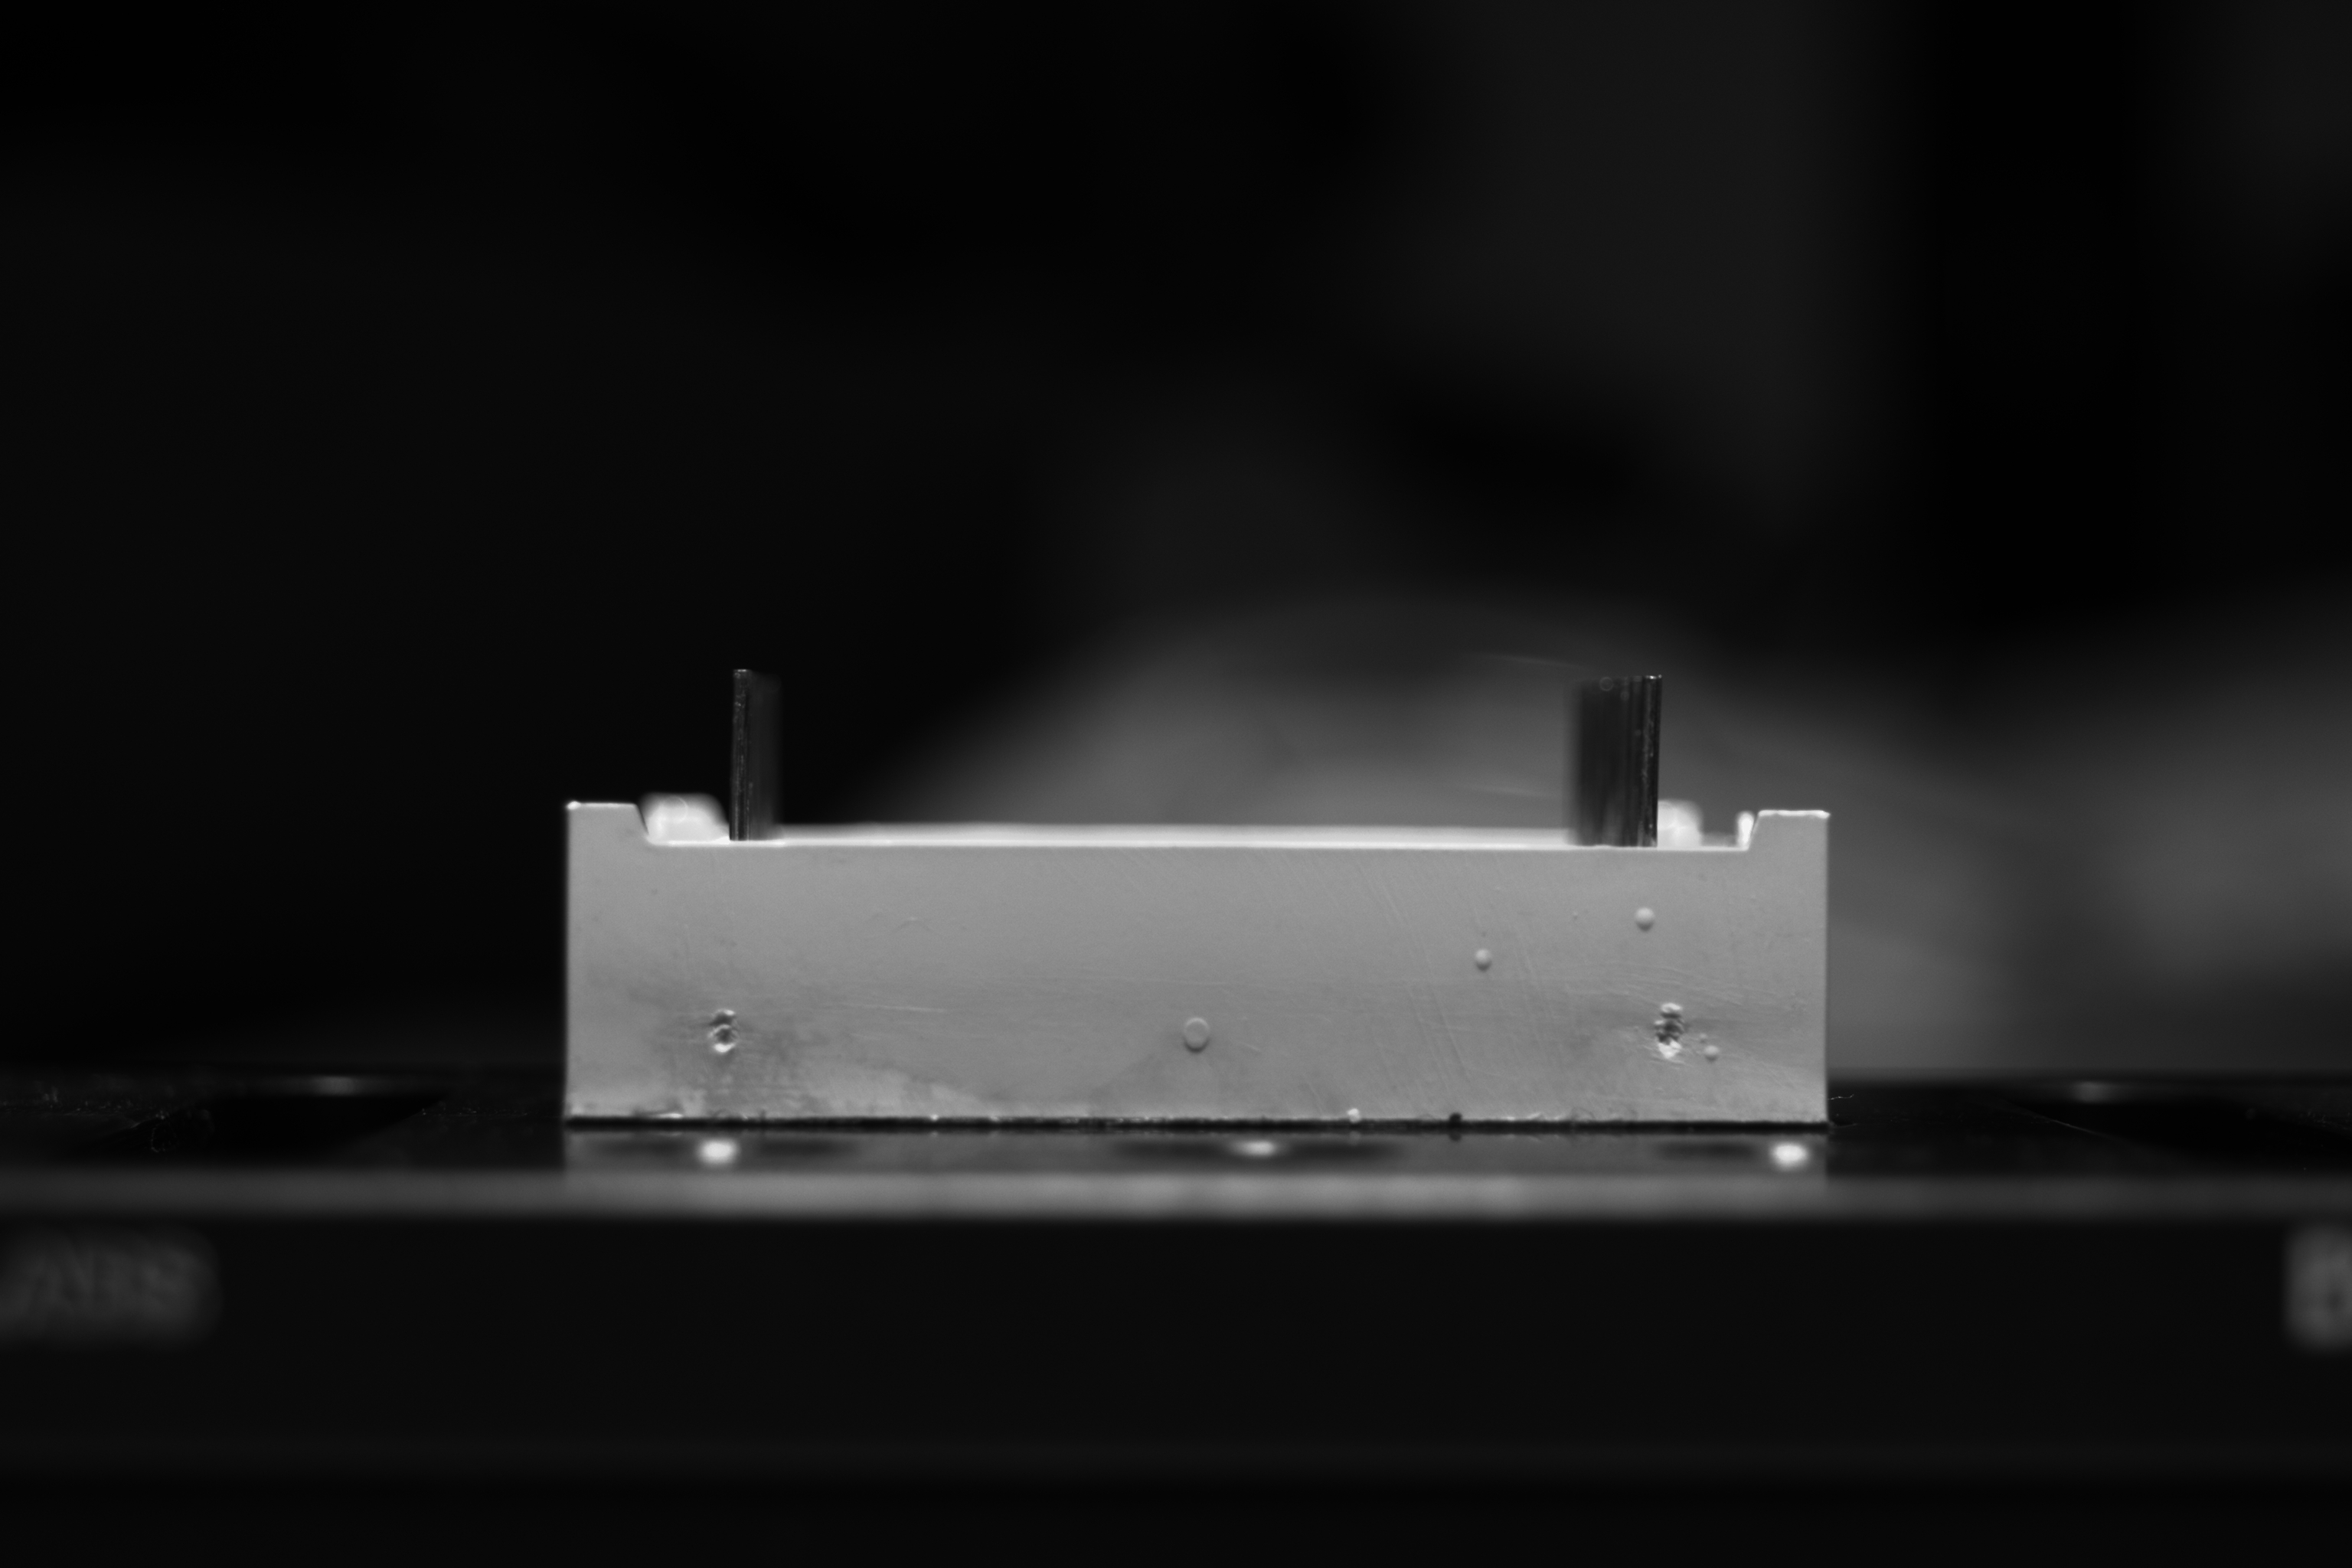glue: (1634, 906, 1655, 931), (1475, 947, 1494, 969), (1704, 1046, 1720, 1062), (1347, 1108, 1360, 1122), (1699, 1034, 1708, 1043)
injection_hole: (1652, 1001, 1689, 1060), (707, 1010, 742, 1057)
